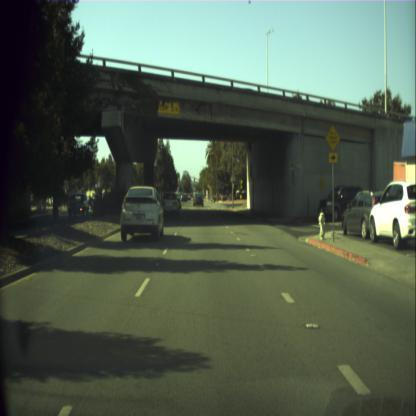Yellow: (194, 182, 196, 186)
